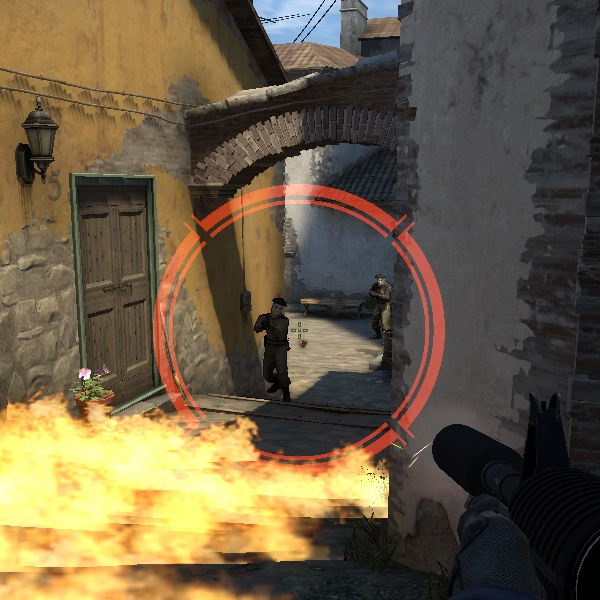ct_body: (355, 272, 393, 343)
